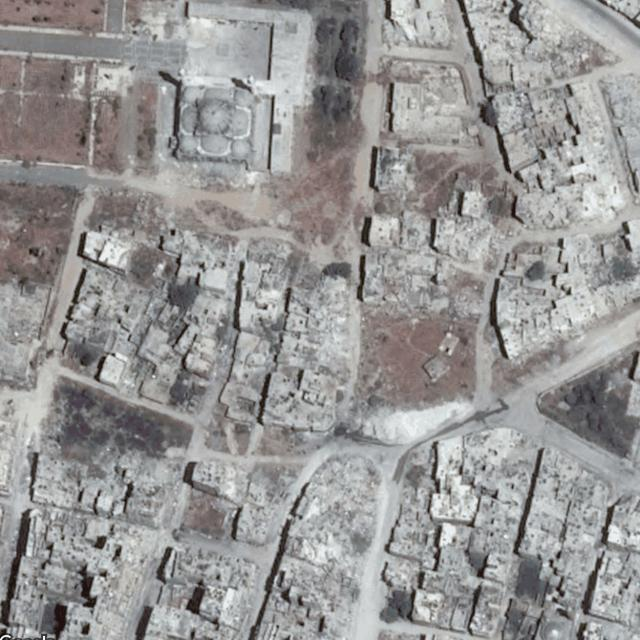damaged_building: (280, 451, 379, 640), (459, 0, 620, 79), (285, 275, 351, 384), (114, 449, 183, 528), (429, 209, 500, 268)
